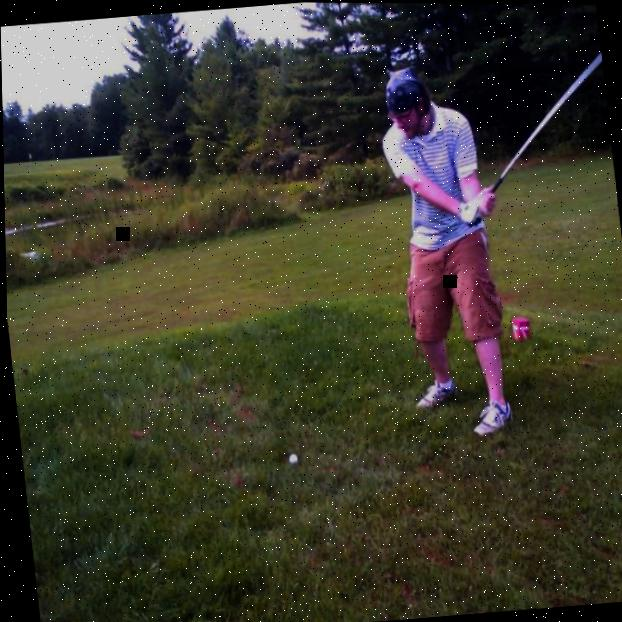GolfBall: (284, 449, 301, 466)
